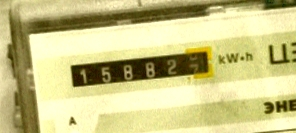1: (79, 67, 90, 86)
2: (166, 58, 179, 75)
5: (100, 66, 113, 83)
7: (189, 62, 201, 76)
8: (123, 63, 135, 81), (146, 61, 157, 78)
screen: (64, 43, 221, 93)
